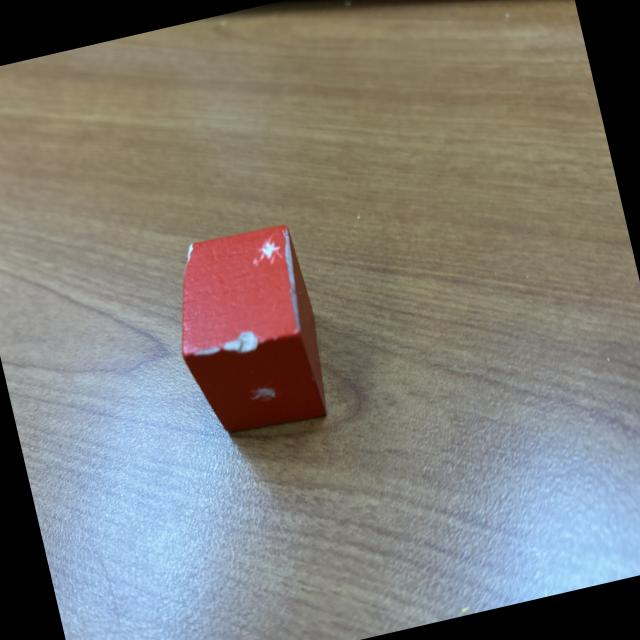broken: (158, 218, 337, 444)
